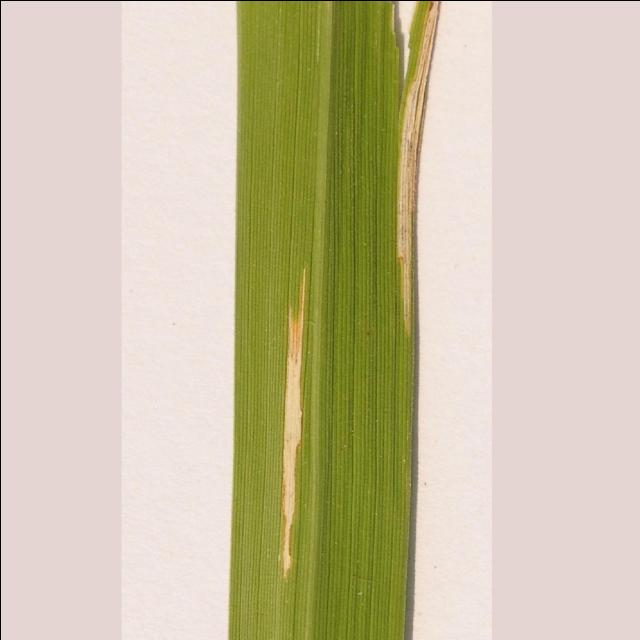Bacterial leaf blight: (254, 264, 323, 581), (388, 0, 448, 337)
